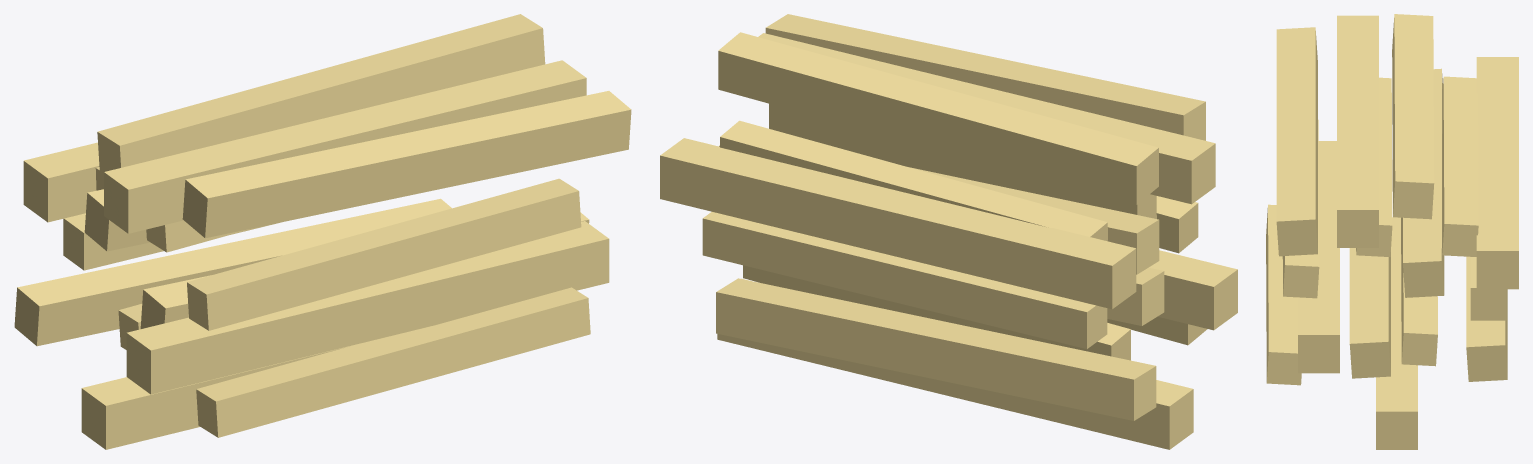
Rendered from fries_1.fbx.
3 views of the same model, side by side, from view 1: azimuth 30°, elevation 25°; view 2: azimuth 150°, elevation 25°; view 3: azimuth 270°, elevation 25° (orthographic). The views are drawn at different scales.
Parts seen in each view (by area): view 1: Cube.013; view 2: Cube.013; view 3: Cube.013.
Part boxes in pixels (bbox=[...]): Cube.013: bbox=[14, 14, 631, 449]; Cube.013: bbox=[660, 14, 1237, 449]; Cube.013: bbox=[1266, 14, 1518, 449].
Size of the model in its own units: 3471 by 2085 by 1809.
